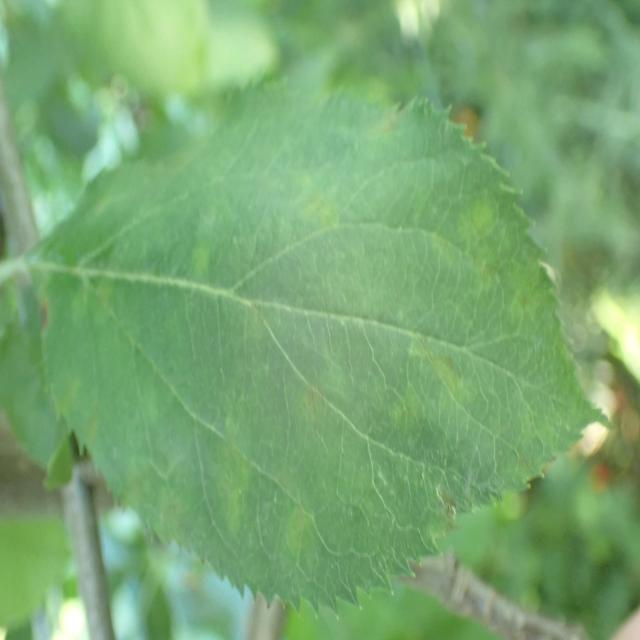scab: (43, 137, 575, 571)
